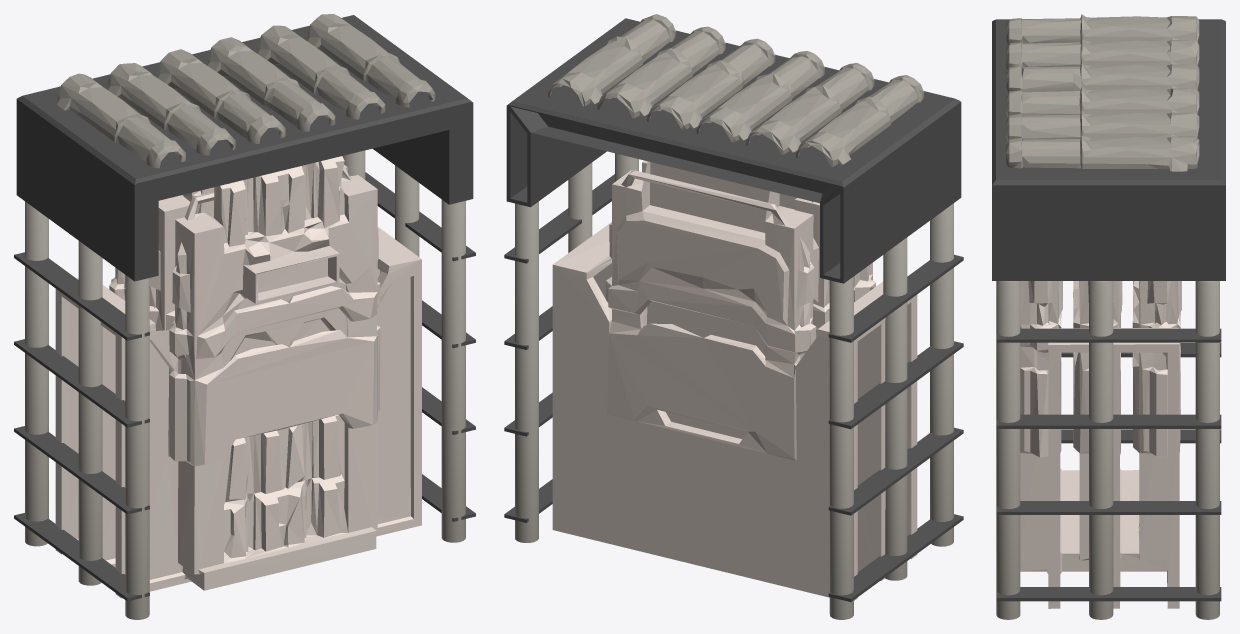
The model's file is industrial_cooling_unit.fbx.
3 views of the same model, side by side, from view 1: azimuth 30°, elevation 25°; view 2: azimuth 150°, elevation 25°; view 3: azimuth 270°, elevation 25° (orthographic).
Visible parts, largest first — view 1: industrial_cooling_unit; view 2: industrial_cooling_unit; view 3: industrial_cooling_unit.
Boxes of the visible parts, x1=… form: industrial_cooling_unit: x1=14, y1=14, x2=475, y2=619; industrial_cooling_unit: x1=504, y1=14, x2=963, y2=619; industrial_cooling_unit: x1=992, y1=14, x2=1225, y2=619.
Size of the model in its own units: 203 by 259 by 119.
